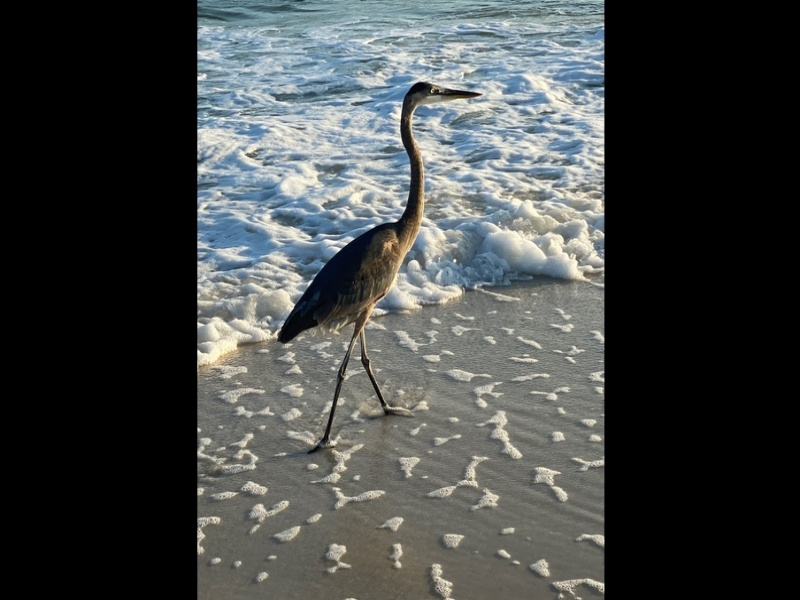heron: (279, 80, 482, 463)
